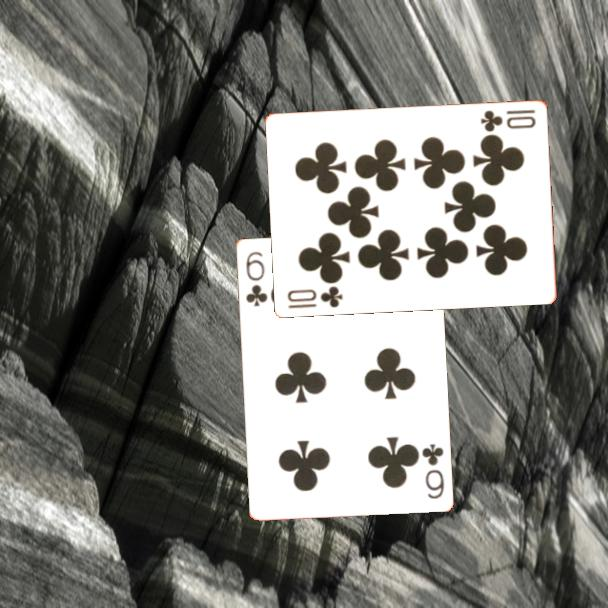c06: (418, 440, 447, 501), (242, 248, 270, 309)
c10: (284, 282, 346, 311), (477, 106, 539, 134)
